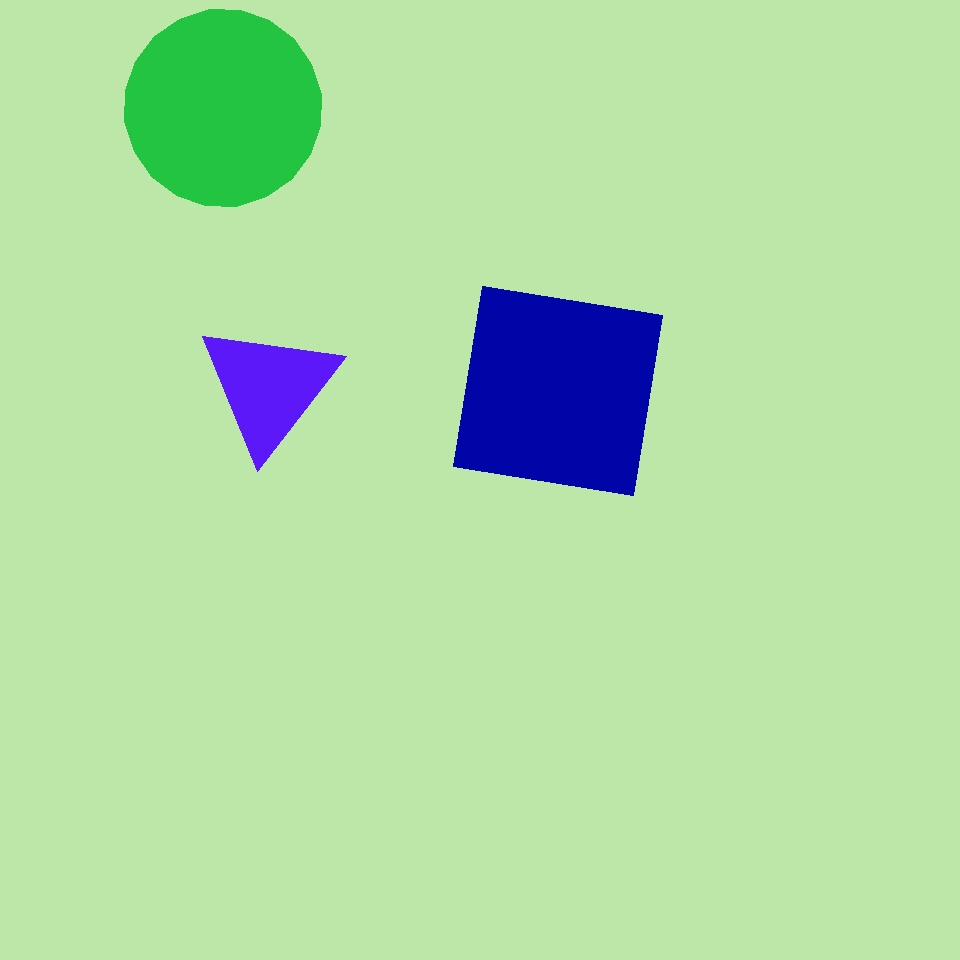circle: (197, 320, 341, 456)
square: (229, 155, 500, 425), (454, 286, 663, 496)
triangle: (125, 10, 322, 206), (41, 809, 162, 930)
